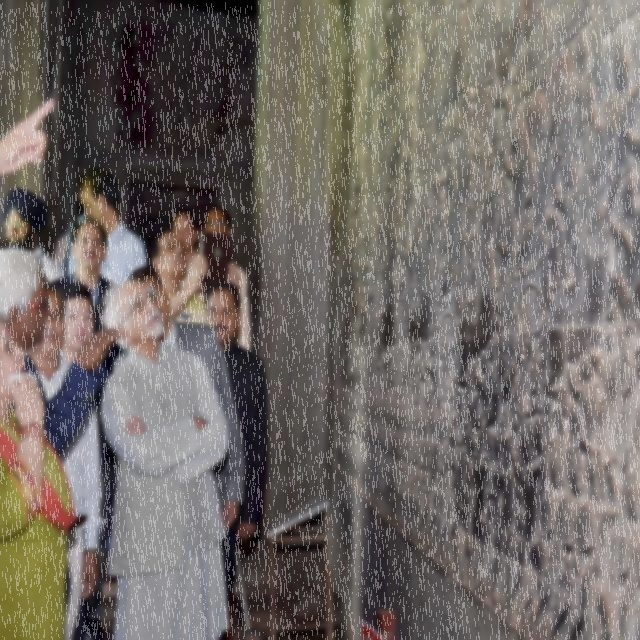pessoa: (95, 269, 231, 639), (112, 266, 246, 606), (26, 281, 104, 639), (206, 278, 271, 618), (48, 212, 126, 375), (144, 225, 243, 331), (69, 166, 149, 282), (198, 202, 253, 354), (61, 170, 129, 290), (2, 185, 67, 284), (0, 96, 57, 179), (56, 278, 98, 366), (170, 206, 206, 302)
